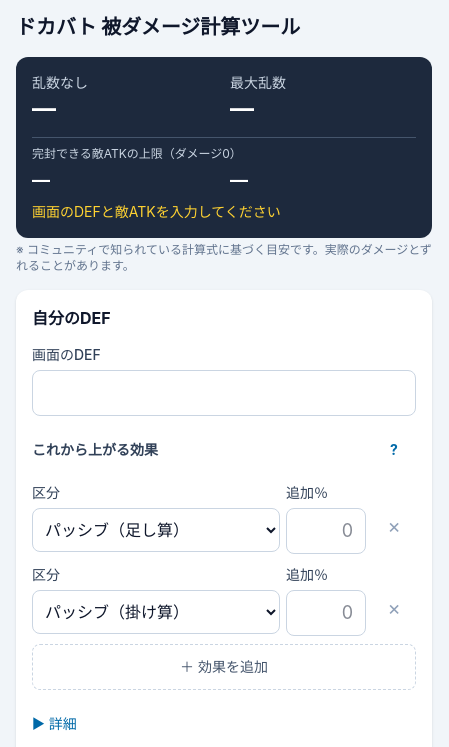
Test: App（敵の攻撃） › 全属性ガードをオフに戻すと、直前に選んでいた係数Aに戻り、注意書きが消える
Type "19500" into the field labelled "画面のDEF" at [224, 393], box x1=32 y1=370 x2=416 y2=416
(page scrolled)
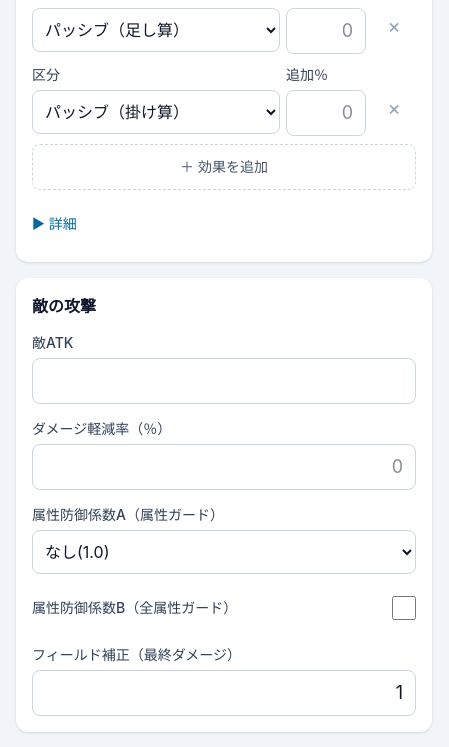
Type "1000000" into the field labelled "敵ATK" at [224, 381], box x1=32 y1=358 x2=416 y2=404
(page scrolled)
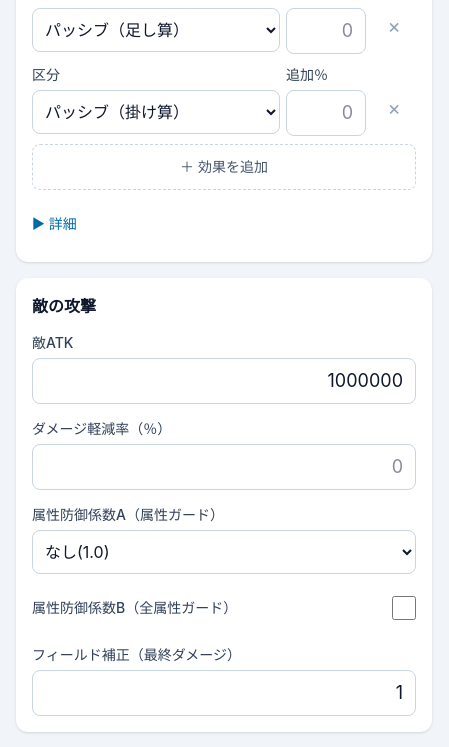
Select "0.6" in the dropdown labelled "属性防御係数A（属性ガード）" at [224, 552], box x1=32 y1=530 x2=416 y2=574
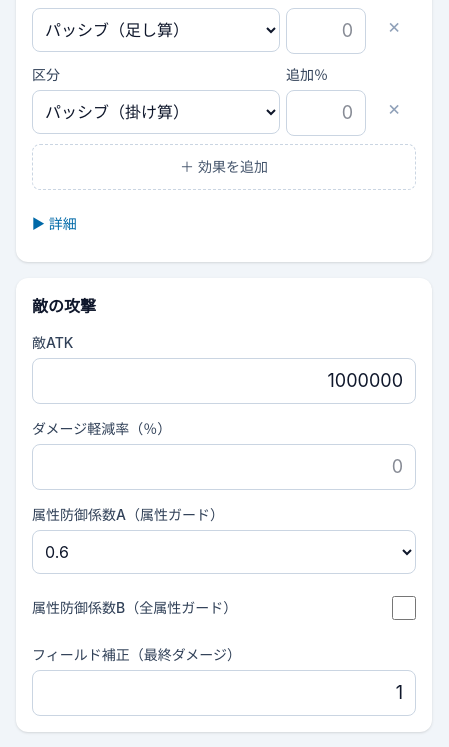
Click the checkbox labelled "属性防御係数B（全属性ガード）" at [404, 608], box x1=392 y1=596 x2=416 y2=620
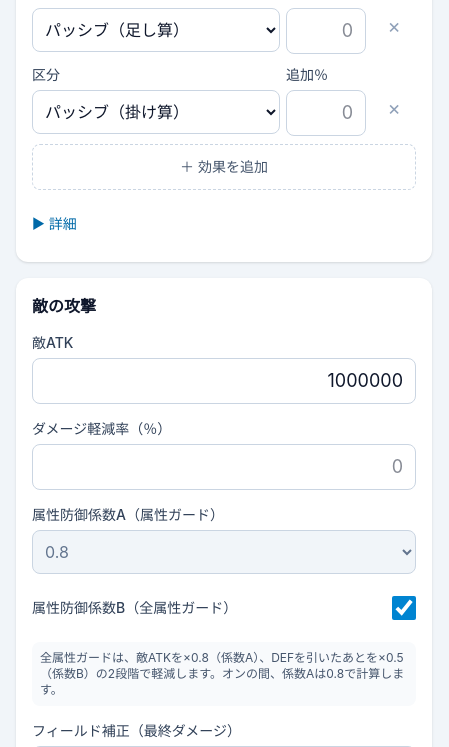
Click the checkbox labelled "属性防御係数B（全属性ガード）" at [404, 608], box x1=392 y1=596 x2=416 y2=620
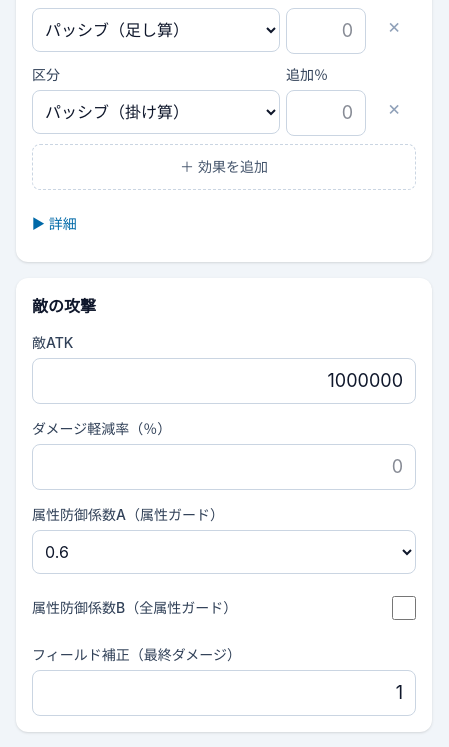
expect the dropdown labelled "属性防御係数A（属性ガード）" is enabled: met, box x1=32 y1=530 x2=416 y2=574
expect the text "オンの間、係数Aは0.8で計算します" is gone: met
